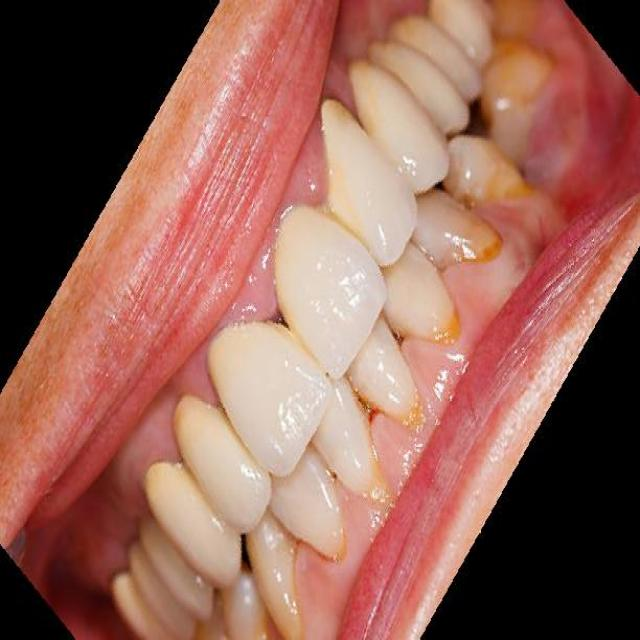calculus: (318, 413, 402, 513), (364, 340, 435, 433), (435, 191, 508, 276), (406, 262, 466, 358), (473, 128, 522, 208)
